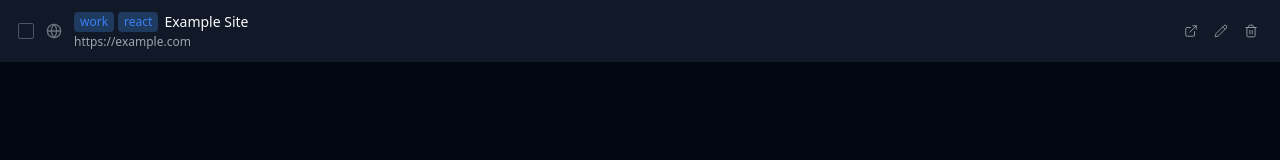
it: BookmarkItem › delete flow › shows delete confirmation when the delete button is clicked
Click the button titled "Delete": {"x": 1251, "y": 31} [1238, 18, 1264, 44]
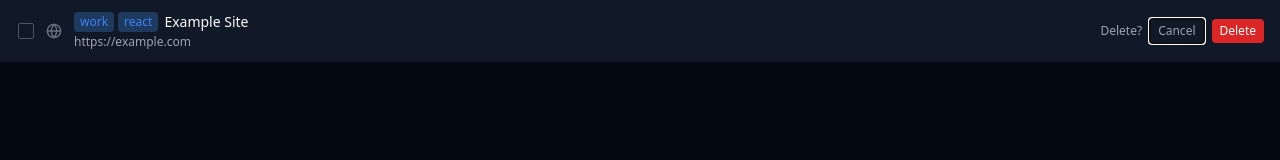
Now the text "Delete?" is shown, box [1100, 23, 1142, 39]
